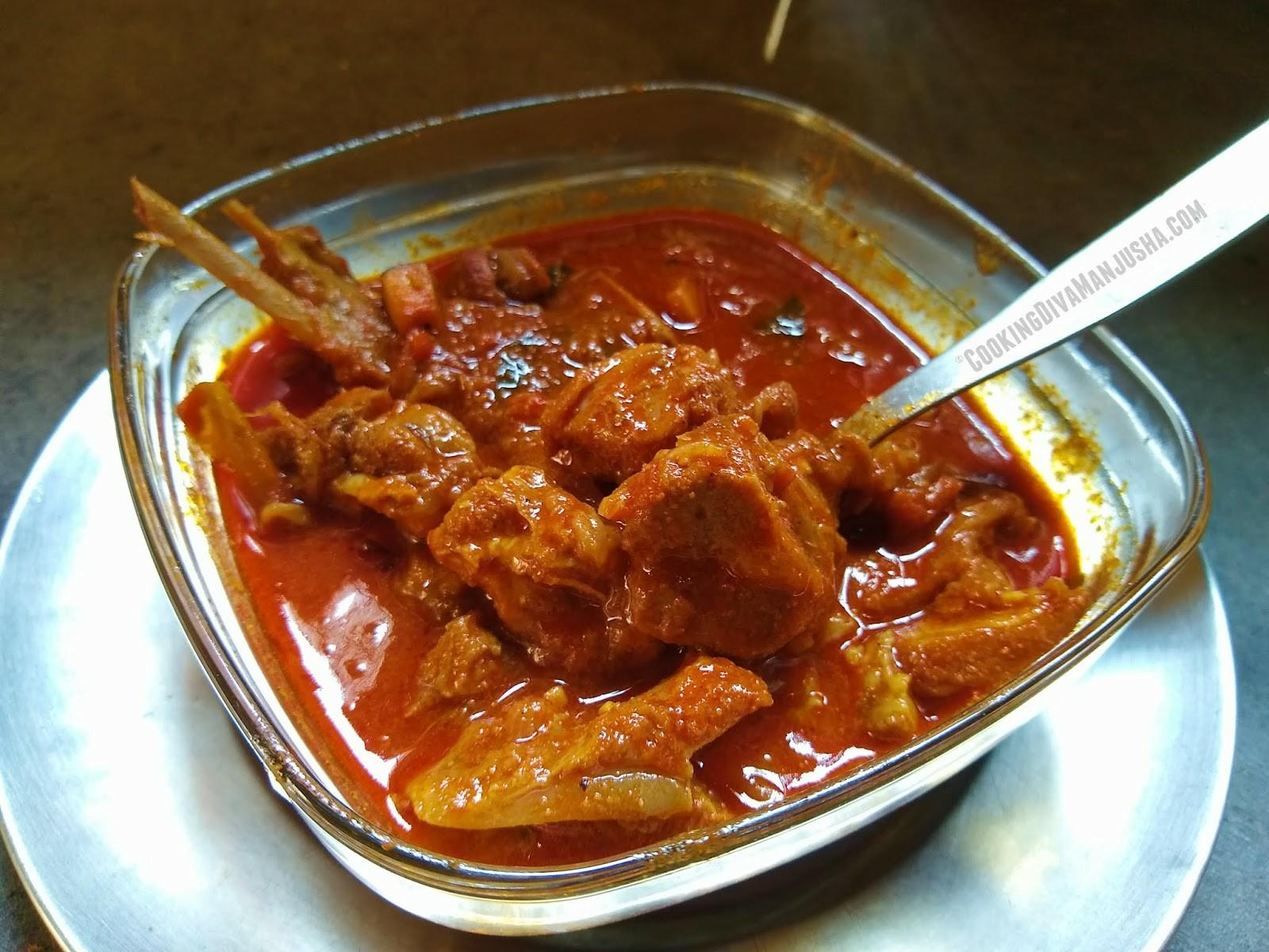MuttonCurry: (136, 179, 1088, 865)
